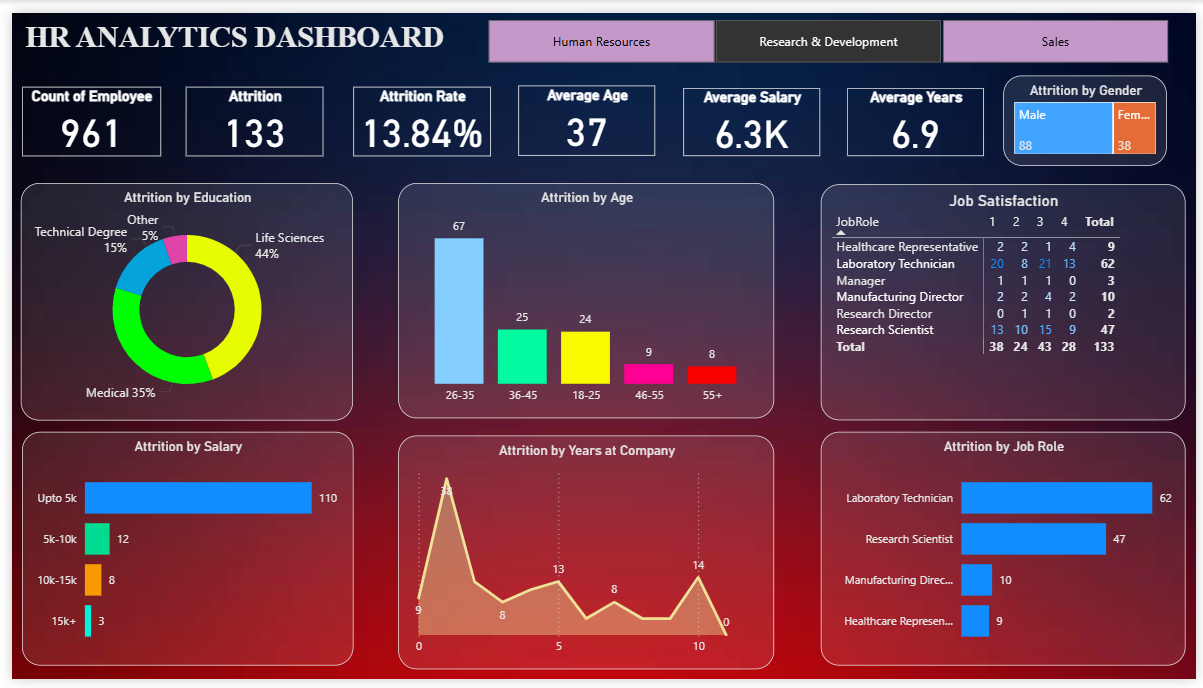

This screenshot's page, from the dashboard's own definition file:
{"tool":"powerbi","page":{"name":"Page 1","canvas":[1280,720],"ordinal":0},"visuals":[{"type":"card","title":"Count of Employee","fields":{"Values":["CountNonNull(HR_Analytics.EmpID)"]},"box":[10.3,79.1,150,75],"z":0},{"type":"card","title":"Attrition","fields":{"Values":["select","Sum(HR_Analytics.AttritionCount)"]},"box":[187.8,79.1,149,75.5],"z":1000},{"type":"card","title":"Attrition Rate","fields":{"Values":["HR_Analytics.AttritionRate"]},"box":[369.5,79.1,149,75.5],"z":2000},{"type":"card","title":"Average Age","fields":{"Values":["Avg(HR_Analytics.Age)"]},"box":[546.8,79,148.4,76],"z":3000},{"type":"card","title":"Average Years","fields":{"Values":["Avg(HR_Analytics.YearsAtCompany)"]},"box":[902.7,81.4,148.4,73.6],"z":4000},{"type":"card","title":"Average Salary","fields":{"Values":["Avg(HR_Analytics.MonthlyIncome)"]},"box":[725.4,81.4,148.4,73.6],"z":5000},{"type":"donutChart","title":"Attrition by Education","fields":{"Category":["HR_Analytics.EducationField"],"Y":["Sum(HR_Analytics.AttritionCount)"]},"box":[9.5,183.8,359.5,256.8],"z":6000},{"type":"columnChart","title":"Attrition by Age","fields":{"Category":["HR_Analytics.AgeGroup"],"Y":["Sum(HR_Analytics.AttritionCount)"]},"box":[417.6,183.8,406.8,254.1],"z":7000},{"type":"pivotTable","title":"Job Satisfaction","fields":{"Rows":["HR_Analytics.JobRole"],"Columns":["HR_Analytics.JobSatisfaction"],"Values":["Sum(HR_Analytics.AttritionCount)"]},"box":[874.3,185.1,394.6,255.4],"z":8000},{"type":"barChart","title":"Attrition by Salary","fields":{"Category":["HR_Analytics.SalarySlab"],"Y":["Sum(HR_Analytics.AttritionCount)"]},"box":[10.8,452.7,358.1,252.7],"z":9000},{"type":"barChart","title":"Attrition by Job Role","fields":{"Y":["Sum(HR_Analytics.AttritionCount)"],"Category":["HR_Analytics.JobRole"]},"box":[874.3,452.7,394.6,252.7],"z":10000},{"type":"areaChart","title":"Attrition by Years at Company","fields":{"Category":["HR_Analytics.YearsAtCompany"],"Y":["Sum(HR_Analytics.AttritionCount)"]},"box":[417.6,456.8,406.8,252.7],"z":11000},{"type":"treemap","title":"Attrition by Gender","fields":{"Group":["HR_Analytics.Gender"],"Values":["Sum(HR_Analytics.AttritionCount)"]},"box":[1071.6,67.6,177,97.3],"z":12000},{"type":"slicer","fields":{"Values":["HR_Analytics.Department"]},"box":[494.6,5.4,774.3,50],"z":13000},{"type":"textbox","box":[9.5,2.7,508.1,64.9],"z":14000}]}

Visuals, with their boxes in screenshot pixels (x1, y1, x2, y2), scaled from the page's 1280x720 canvas onto the 1203x688 screenshot:
"Count of Employee" card: 10 76 151 147
"Attrition" card: 177 76 317 148
"Attrition Rate" card: 347 76 487 148
"Average Age" card: 514 75 653 148
"Average Years" card: 848 78 988 148
"Average Salary" card: 682 78 821 148
"Attrition by Education" donutChart: 9 176 347 421
"Attrition by Age" columnChart: 392 176 775 418
"Job Satisfaction" pivotTable: 822 177 1193 421
"Attrition by Salary" barChart: 10 433 347 674
"Attrition by Job Role" barChart: 822 433 1193 674
"Attrition by Years at Company" areaChart: 392 436 775 678
"Attrition by Gender" treemap: 1007 65 1173 158
slicer - HR_Analytics.Department: 465 5 1193 53
textbox: 9 3 486 65
